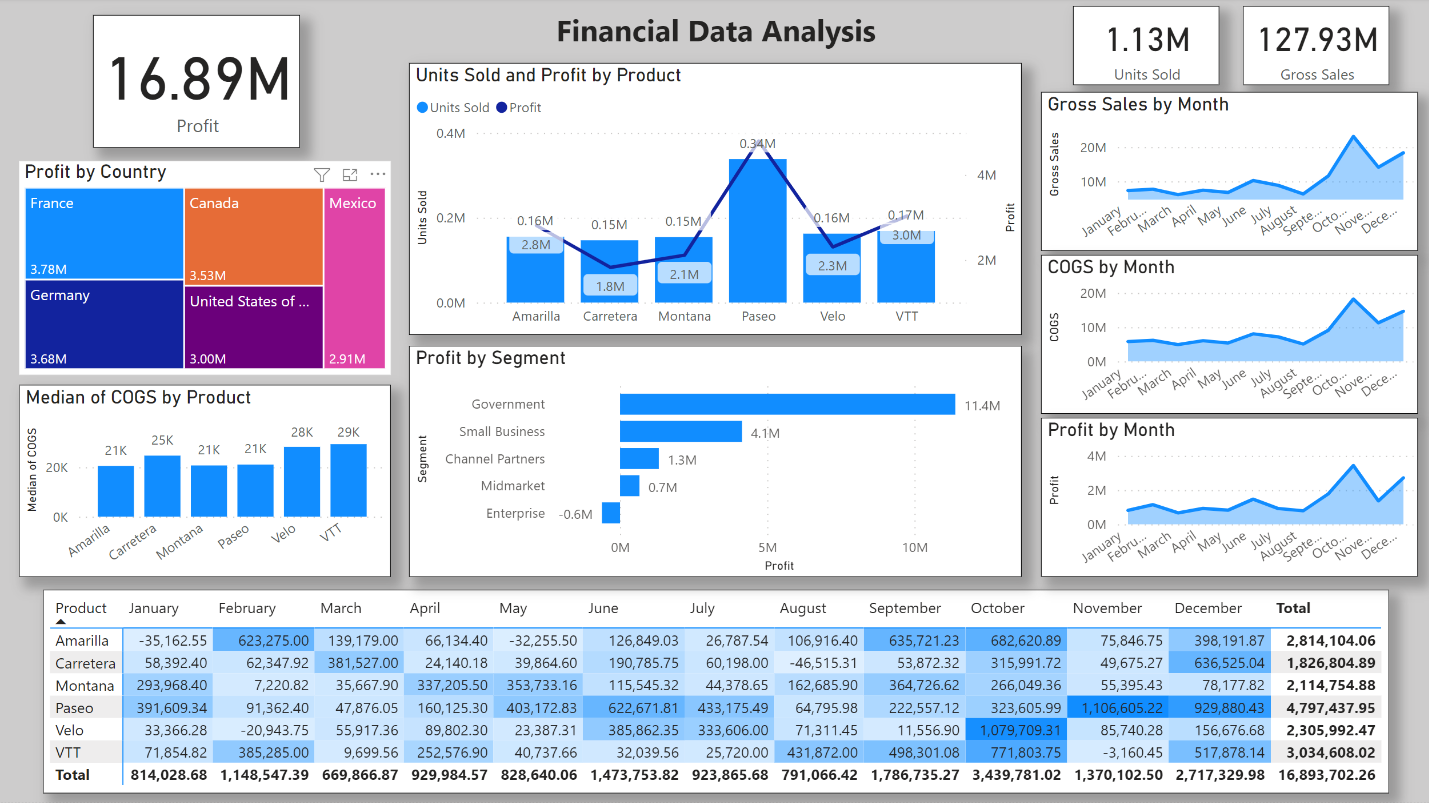

This screenshot's page, from the dashboard's own definition file:
{"tool":"powerbi","page":{"name":"Page 1","canvas":[1280,720],"ordinal":0},"visuals":[{"type":"textbox","box":[449,0,382,47.6],"z":0},{"type":"card","fields":{"Values":["Sum(financials.Profit)"]},"box":[8.7,24.3,185.6,118.6],"z":1},{"type":"treemap","fields":{"Group":["financials.Country"],"Values":["Sum(financials.Profit)"]},"box":[8.7,154.5,333.4,191.5],"z":2},{"type":"lineClusteredColumnComboChart","fields":{"Category":["financials.Product"],"Y":["Median(financials.COGS)"]},"box":[8.7,346,333.4,259.5],"z":3},{"type":"pivotTable","fields":{"Rows":["financials.Product"],"Columns":["RF Table.Month"],"Values":["Sum(financials.Profit)"]},"box":[0,528.7,1280,191.5],"z":4},{"type":"lineClusteredColumnComboChart","fields":{"Category":["financials.Product"],"Y":["Sum(financials.Units Sold)"],"Y2":["Sum(financials.Profit)"]},"box":[432.5,46.7,382,266.3],"z":5}]}

Visuals, with their boxes in screenshot pixels (x1, y1, x2, y2), scaled from the page's 1280x720 canvas onto the 1429x803 screenshot:
textbox: [501,0,928,53]
card - Sum(financials.Profit): [10,27,217,159]
treemap - financials.Country x Sum(financials.Profit): [10,172,382,386]
lineClusteredColumnComboChart - financials.Product x Median(financials.COGS): [10,386,382,675]
pivotTable - financials.Product x RF Table.Month: [0,590,1428,802]
lineClusteredColumnComboChart - financials.Product x Sum(financials.Units Sold): [483,52,909,349]
